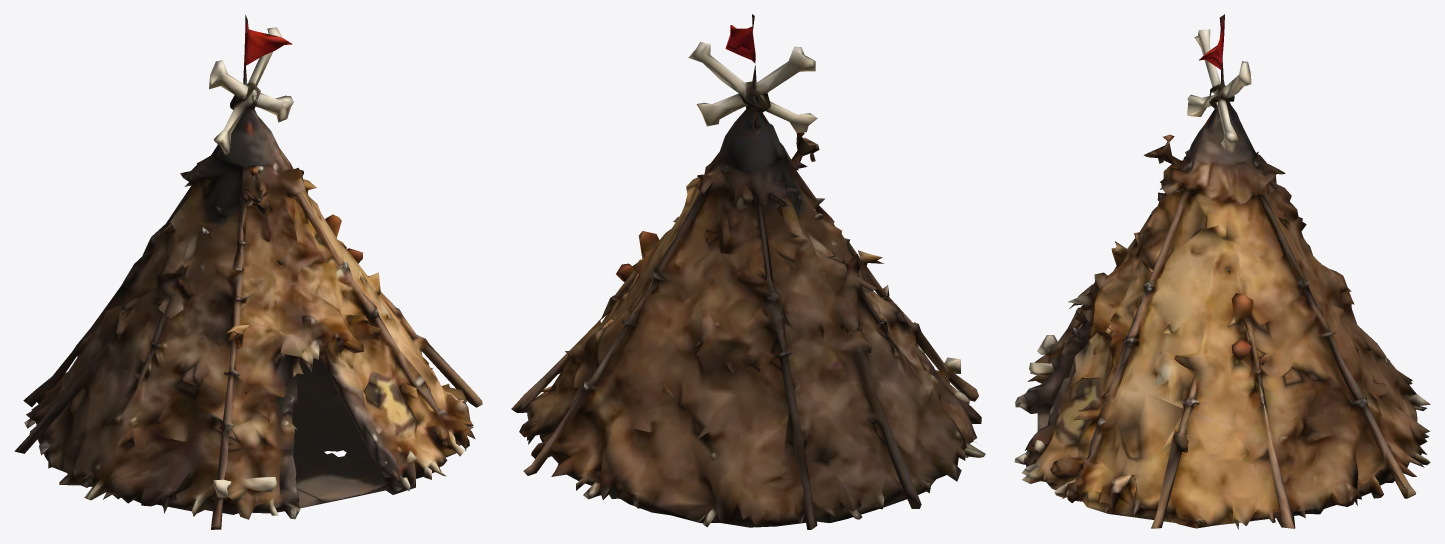
Rendered from orctent.glb.
3 views of the same model, side by side, from view 1: azimuth 30°, elevation 25°; view 2: azimuth 150°, elevation 25°; view 3: azimuth 270°, elevation 25° (orthographic).
Visible parts, largest first — view 1: tripo_node_fa5c3252-c7b8-48df-b640-844253d80bbd; view 2: tripo_node_fa5c3252-c7b8-48df-b640-844253d80bbd; view 3: tripo_node_fa5c3252-c7b8-48df-b640-844253d80bbd.
Boxes of the visible parts, x1,y1,x2,y2 form: tripo_node_fa5c3252-c7b8-48df-b640-844253d80bbd: (14,15,482,529); tripo_node_fa5c3252-c7b8-48df-b640-844253d80bbd: (511,14,985,529); tripo_node_fa5c3252-c7b8-48df-b640-844253d80bbd: (1014,14,1430,529).
Bounding box in the file's own units: 0.993 × 0.9975 × 0.8859.
Materials: 1 (1 with a texture image).
